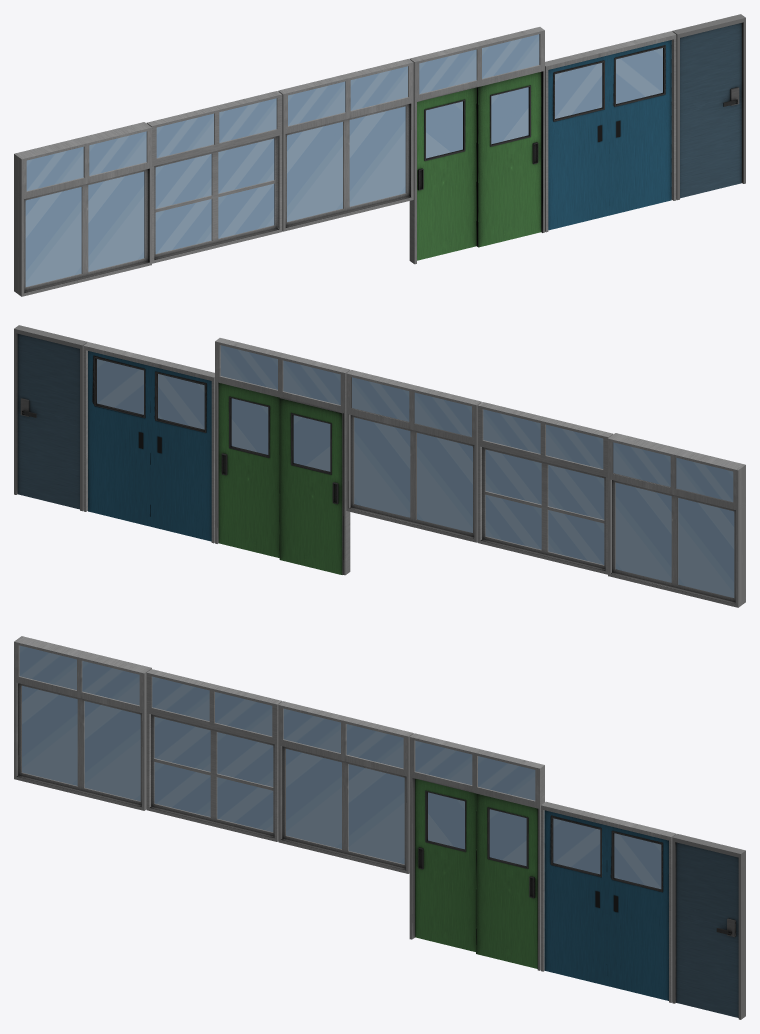
The model's file is prop_sch_doorwindows.fbx.
3 renders of one model, top to bottom at view 1: azimuth 30°, elevation 25°; view 2: azimuth 150°, elevation 25°; view 3: azimuth 330°, elevation 25°, orthographic.
Visible parts, largest first — view 1: prop_sch_windows, prop_sch_windows_glass, prop_sch_windows2_glass, prop_sch_door, prop_sch_door2, prop_sch_door_slidings, prop_sch_door3_x, prop_sch_door2_x, prop_sch_windows3, prop_sch_windows2, prop_sch_door_glass, prop_sch_door2_x_glass (+3 smaller); view 2: prop_sch_windows, prop_sch_windows_glass, prop_sch_windows2_glass, prop_sch_door, prop_sch_door2, prop_sch_door3_x, prop_sch_door_slidings, prop_sch_door2_x, prop_sch_windows3, prop_sch_windows2, prop_sch_door_glass, prop_sch_door2_x_glass (+3 smaller); view 3: prop_sch_windows, prop_sch_windows_glass, prop_sch_windows2_glass, prop_sch_door, prop_sch_door2, prop_sch_door3_x, prop_sch_door_slidings, prop_sch_door2_x, prop_sch_windows2, prop_sch_windows3, prop_sch_door_glass, prop_sch_door3 (+3 smaller).
Part boxes in pixels (left/top/right/bottom): prop_sch_windows: left=278, top=59, right=413, bottom=231; prop_sch_windows_glass: left=25, top=131, right=146, bottom=286; prop_sch_windows2_glass: left=155, top=98, right=276, bottom=253; prop_sch_door: left=409, top=27, right=544, bottom=264; prop_sch_door2: left=545, top=31, right=676, bottom=232; prop_sch_door_slidings: left=476, top=72, right=541, bottom=247; prop_sch_door3_x: left=680, top=23, right=741, bottom=198; prop_sch_door2_x: left=548, top=55, right=609, bottom=230; prop_sch_windows3: left=14, top=122, right=151, bottom=296; prop_sch_windows2: left=146, top=91, right=282, bottom=263; prop_sch_door_glass: left=419, top=34, right=539, bottom=93; prop_sch_door2_x_glass: left=555, top=63, right=602, bottom=118; prop_sch_windows: left=346, top=370, right=481, bottom=542; prop_sch_windows_glass: left=613, top=442, right=734, bottom=597; prop_sch_windows2_glass: left=483, top=409, right=604, bottom=564; prop_sch_door: left=215, top=338, right=350, bottom=575; prop_sch_door2: left=83, top=342, right=214, bottom=543; prop_sch_door3_x: left=17, top=334, right=79, bottom=509; prop_sch_door_slidings: left=218, top=383, right=279, bottom=557; prop_sch_door2_x: left=150, top=366, right=211, bottom=541; prop_sch_windows3: left=608, top=433, right=745, bottom=607; prop_sch_windows2: left=477, top=402, right=613, bottom=574; prop_sch_door_glass: left=220, top=345, right=340, bottom=404; prop_sch_door2_x_glass: left=158, top=374, right=204, bottom=429; prop_sch_windows: left=278, top=701, right=413, bottom=873; prop_sch_windows_glass: left=19, top=645, right=140, bottom=801; prop_sch_windows2_glass: left=152, top=676, right=273, bottom=832; prop_sch_door: left=409, top=733, right=544, bottom=970; prop_sch_door2: left=541, top=801, right=676, bottom=1002; prop_sch_door3_x: left=676, top=842, right=738, bottom=1017; prop_sch_door_slidings: left=476, top=793, right=537, bottom=968; prop_sch_door2_x: left=544, top=810, right=606, bottom=985; prop_sch_windows2: left=146, top=669, right=282, bottom=841; prop_sch_windows3: left=14, top=636, right=151, bottom=810; prop_sch_door_glass: left=415, top=740, right=535, bottom=800; prop_sch_door3: left=672, top=834, right=745, bottom=1019.
Size of the model in its own units: 939 by 250 by 18.05.
